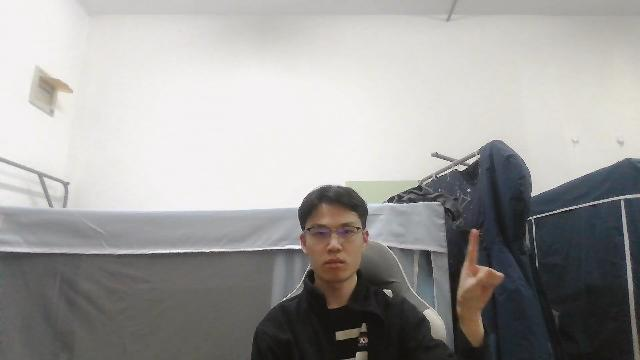one: (457, 224, 505, 309)
